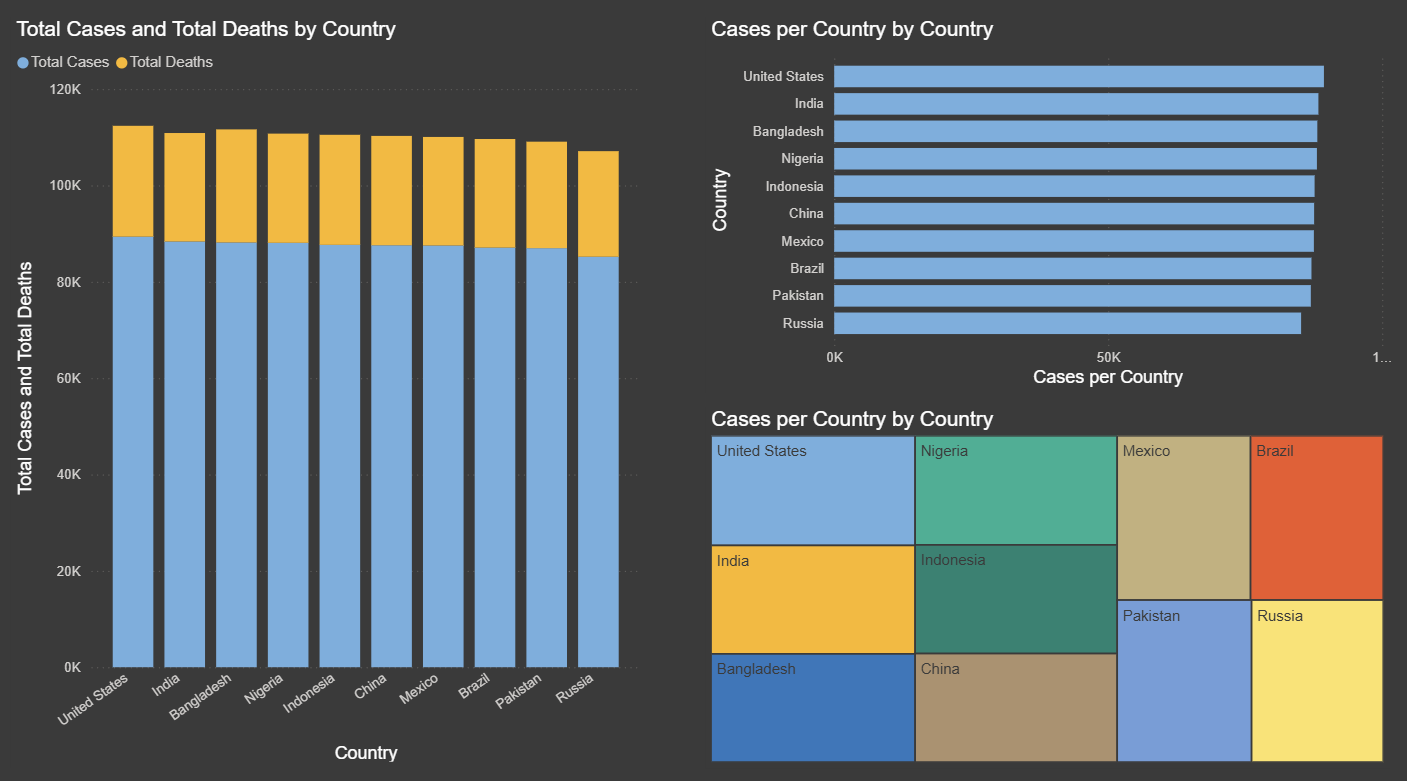

What the dashboard file says about the page in this screenshot:
{"tool":"powerbi","page":{"name":"Page 3","canvas":[1280,720],"ordinal":2},"visuals":[{"type":"barChart","fields":{"Category":["zoonotic_disease_data_20250823_150248.Country"],"Y":["zoonotic_disease_data_20250823_150248.Cases per Country"]},"box":[640,27.1,618.6,334.3],"z":0},{"type":"columnChart","fields":{"Category":["zoonotic_disease_data_20250823_150248.Country"],"Y":["zoonotic_disease_data_20250823_150248.Total Cases","zoonotic_disease_data_20250823_150248.Total Deaths"]},"box":[21.4,27.1,565.7,668.6],"z":1000},{"type":"treemap","fields":{"Values":["zoonotic_disease_data_20250823_150248.Cases per Country"],"Group":["zoonotic_disease_data_20250823_150248.Country"]},"box":[640,374.3,608.6,321.4],"z":2000}]}

Visuals, with their boxes in screenshot pixels (x1, y1, x2, y2), scaled from the page's 1280x720 canvas onto the 1407x781 screenshot:
barChart - zoonotic_disease_data_20250823_150248.Country x zoonotic_disease_data_20250823_150248.Cases per Country: x1=704 y1=29 x2=1383 y2=392
columnChart - zoonotic_disease_data_20250823_150248.Country x zoonotic_disease_data_20250823_150248.Total Cases: x1=24 y1=29 x2=645 y2=755
treemap - zoonotic_disease_data_20250823_150248.Cases per Country x zoonotic_disease_data_20250823_150248.Country: x1=704 y1=406 x2=1372 y2=755
